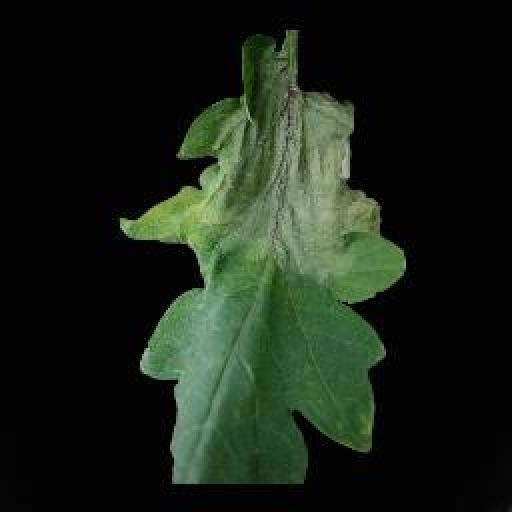disease_tomato: (122, 35, 410, 485)
